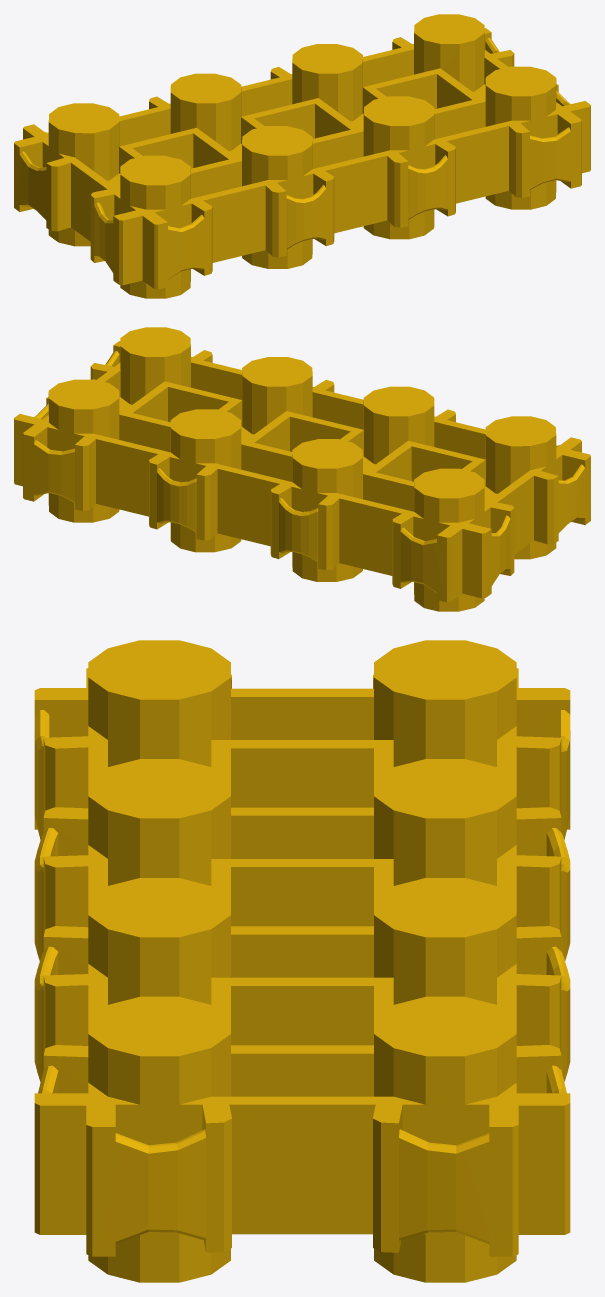
3 views of the same model, one above another, from view 1: azimuth 30°, elevation 25°; view 2: azimuth 150°, elevation 25°; view 3: azimuth 270°, elevation 25° (orthographic). The views are drawn at different scales.
Parts seen in each view (by area): view 1: 4x2; view 2: 4x2; view 3: 4x2.
Part boxes in pixels (x1,y1,x2,y2): 4x2: (14, 14, 590, 298); 4x2: (14, 327, 590, 611); 4x2: (34, 640, 570, 1282).
Bounding box in the file's own units: 1.55 × 0.3556 × 0.762.
